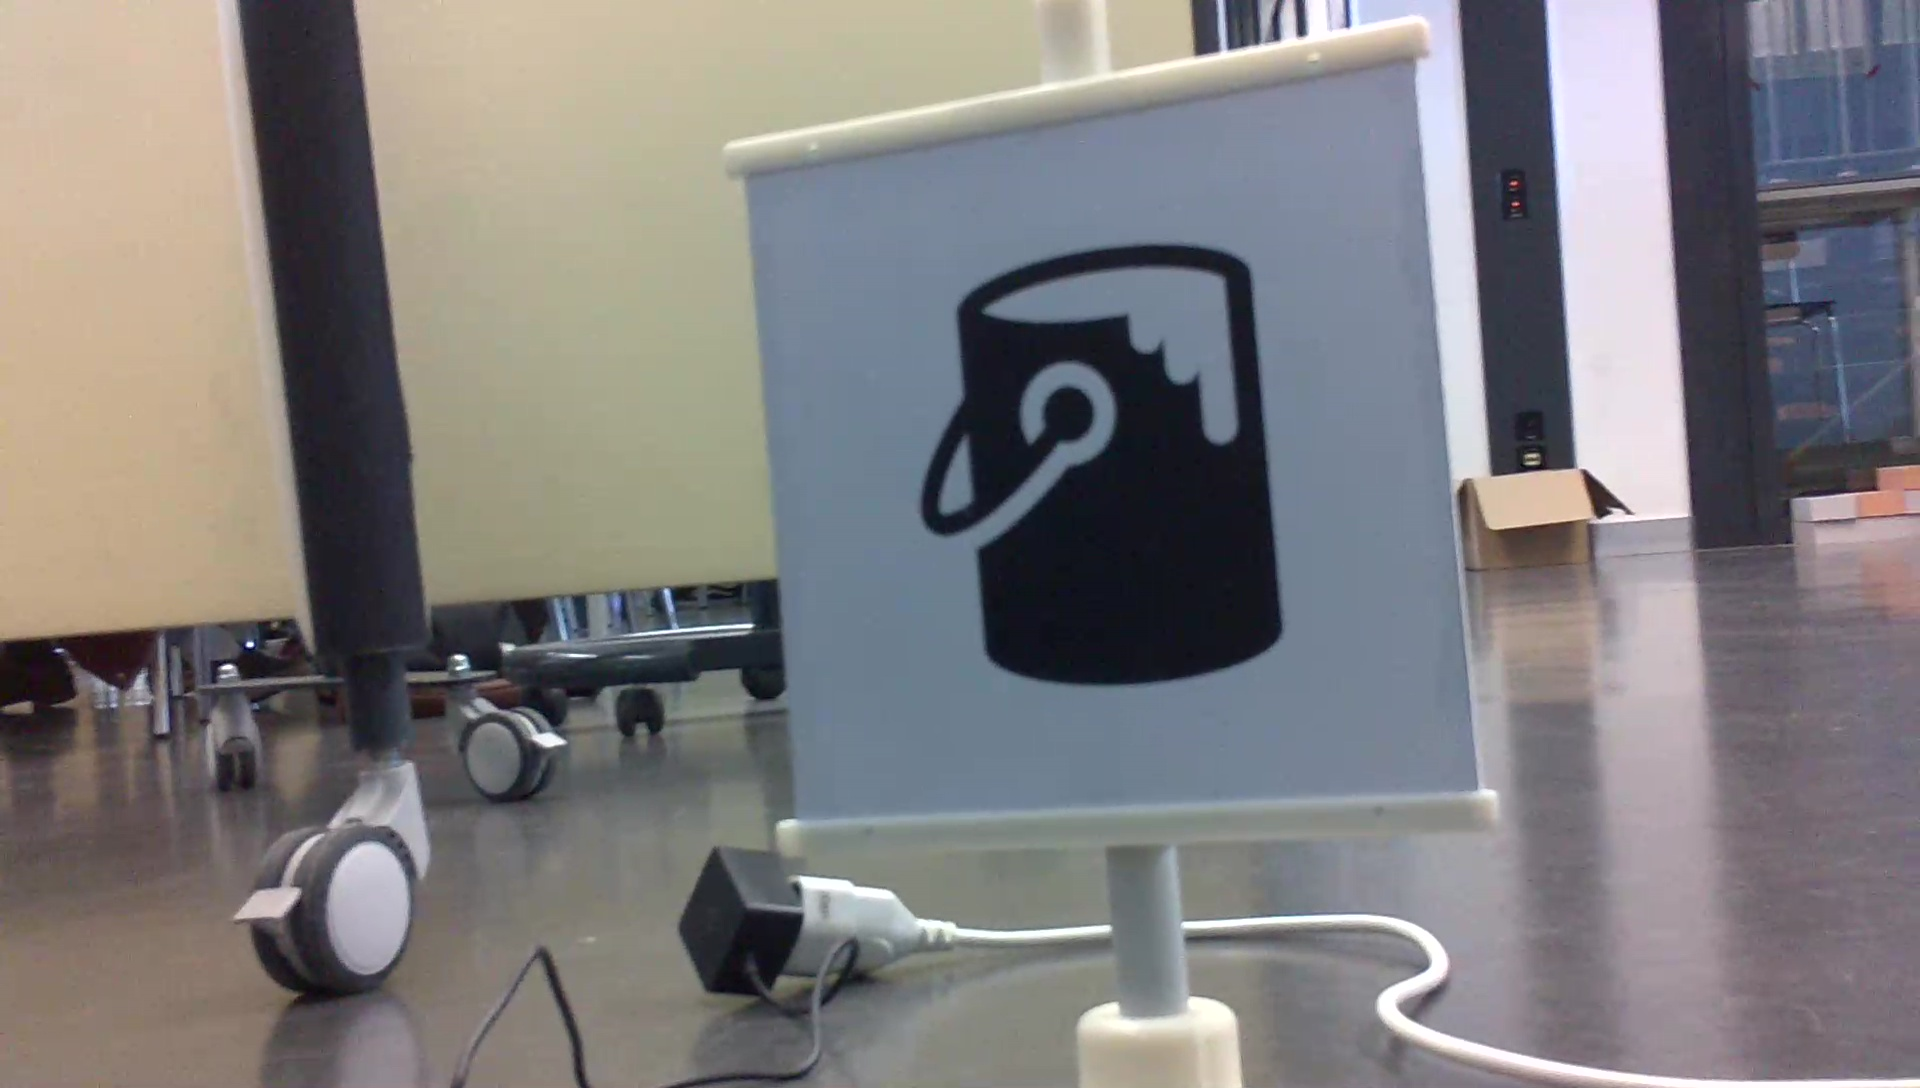bucket: (905, 231, 1295, 698)
